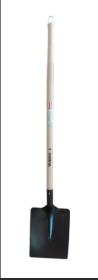PELLE: (0, 0, 77, 280)
